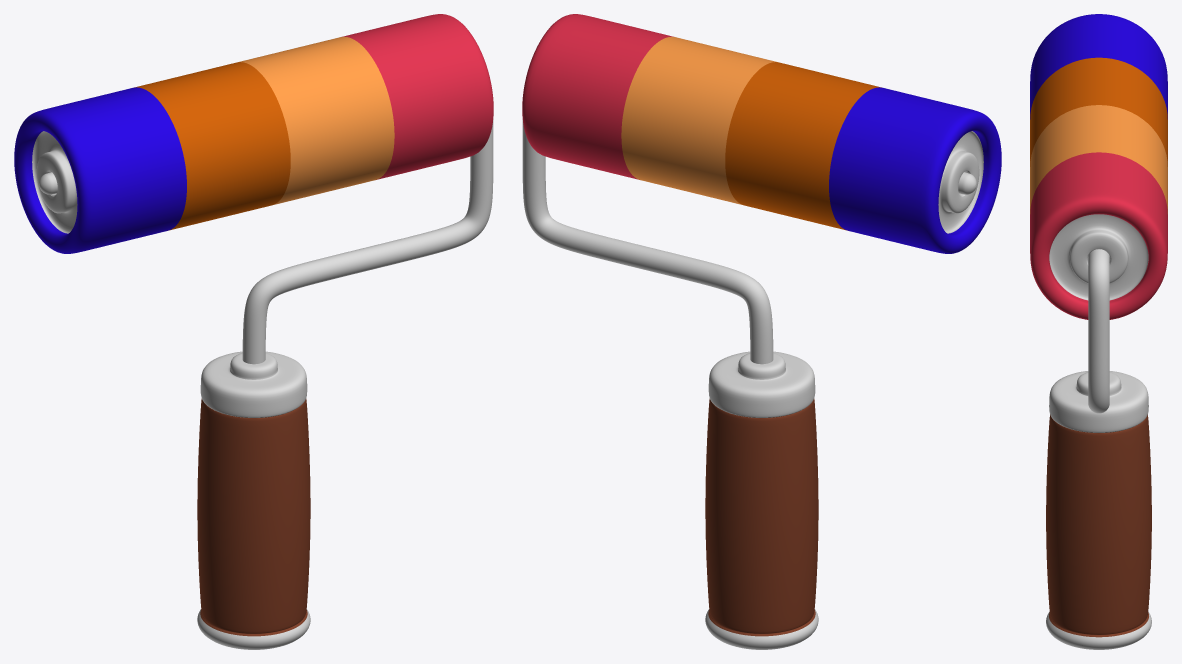
File: roll-brush.fbx
3 renders of one model, left to right at view 1: azimuth 30°, elevation 25°; view 2: azimuth 150°, elevation 25°; view 3: azimuth 270°, elevation 25°, orthographic. The views are drawn at different scales.
Parts seen in each view (by area): view 1: Cylinder.015; view 2: Cylinder.015; view 3: Cylinder.015.
Part boxes in pixels (x1=…): Cylinder.015: x1=14, y1=14, x2=493, y2=649; Cylinder.015: x1=522, y1=14, x2=1001, y2=649; Cylinder.015: x1=1030, y1=14, x2=1167, y2=649.
Bounding box in the file's own units: 156 × 188 × 44.07.
